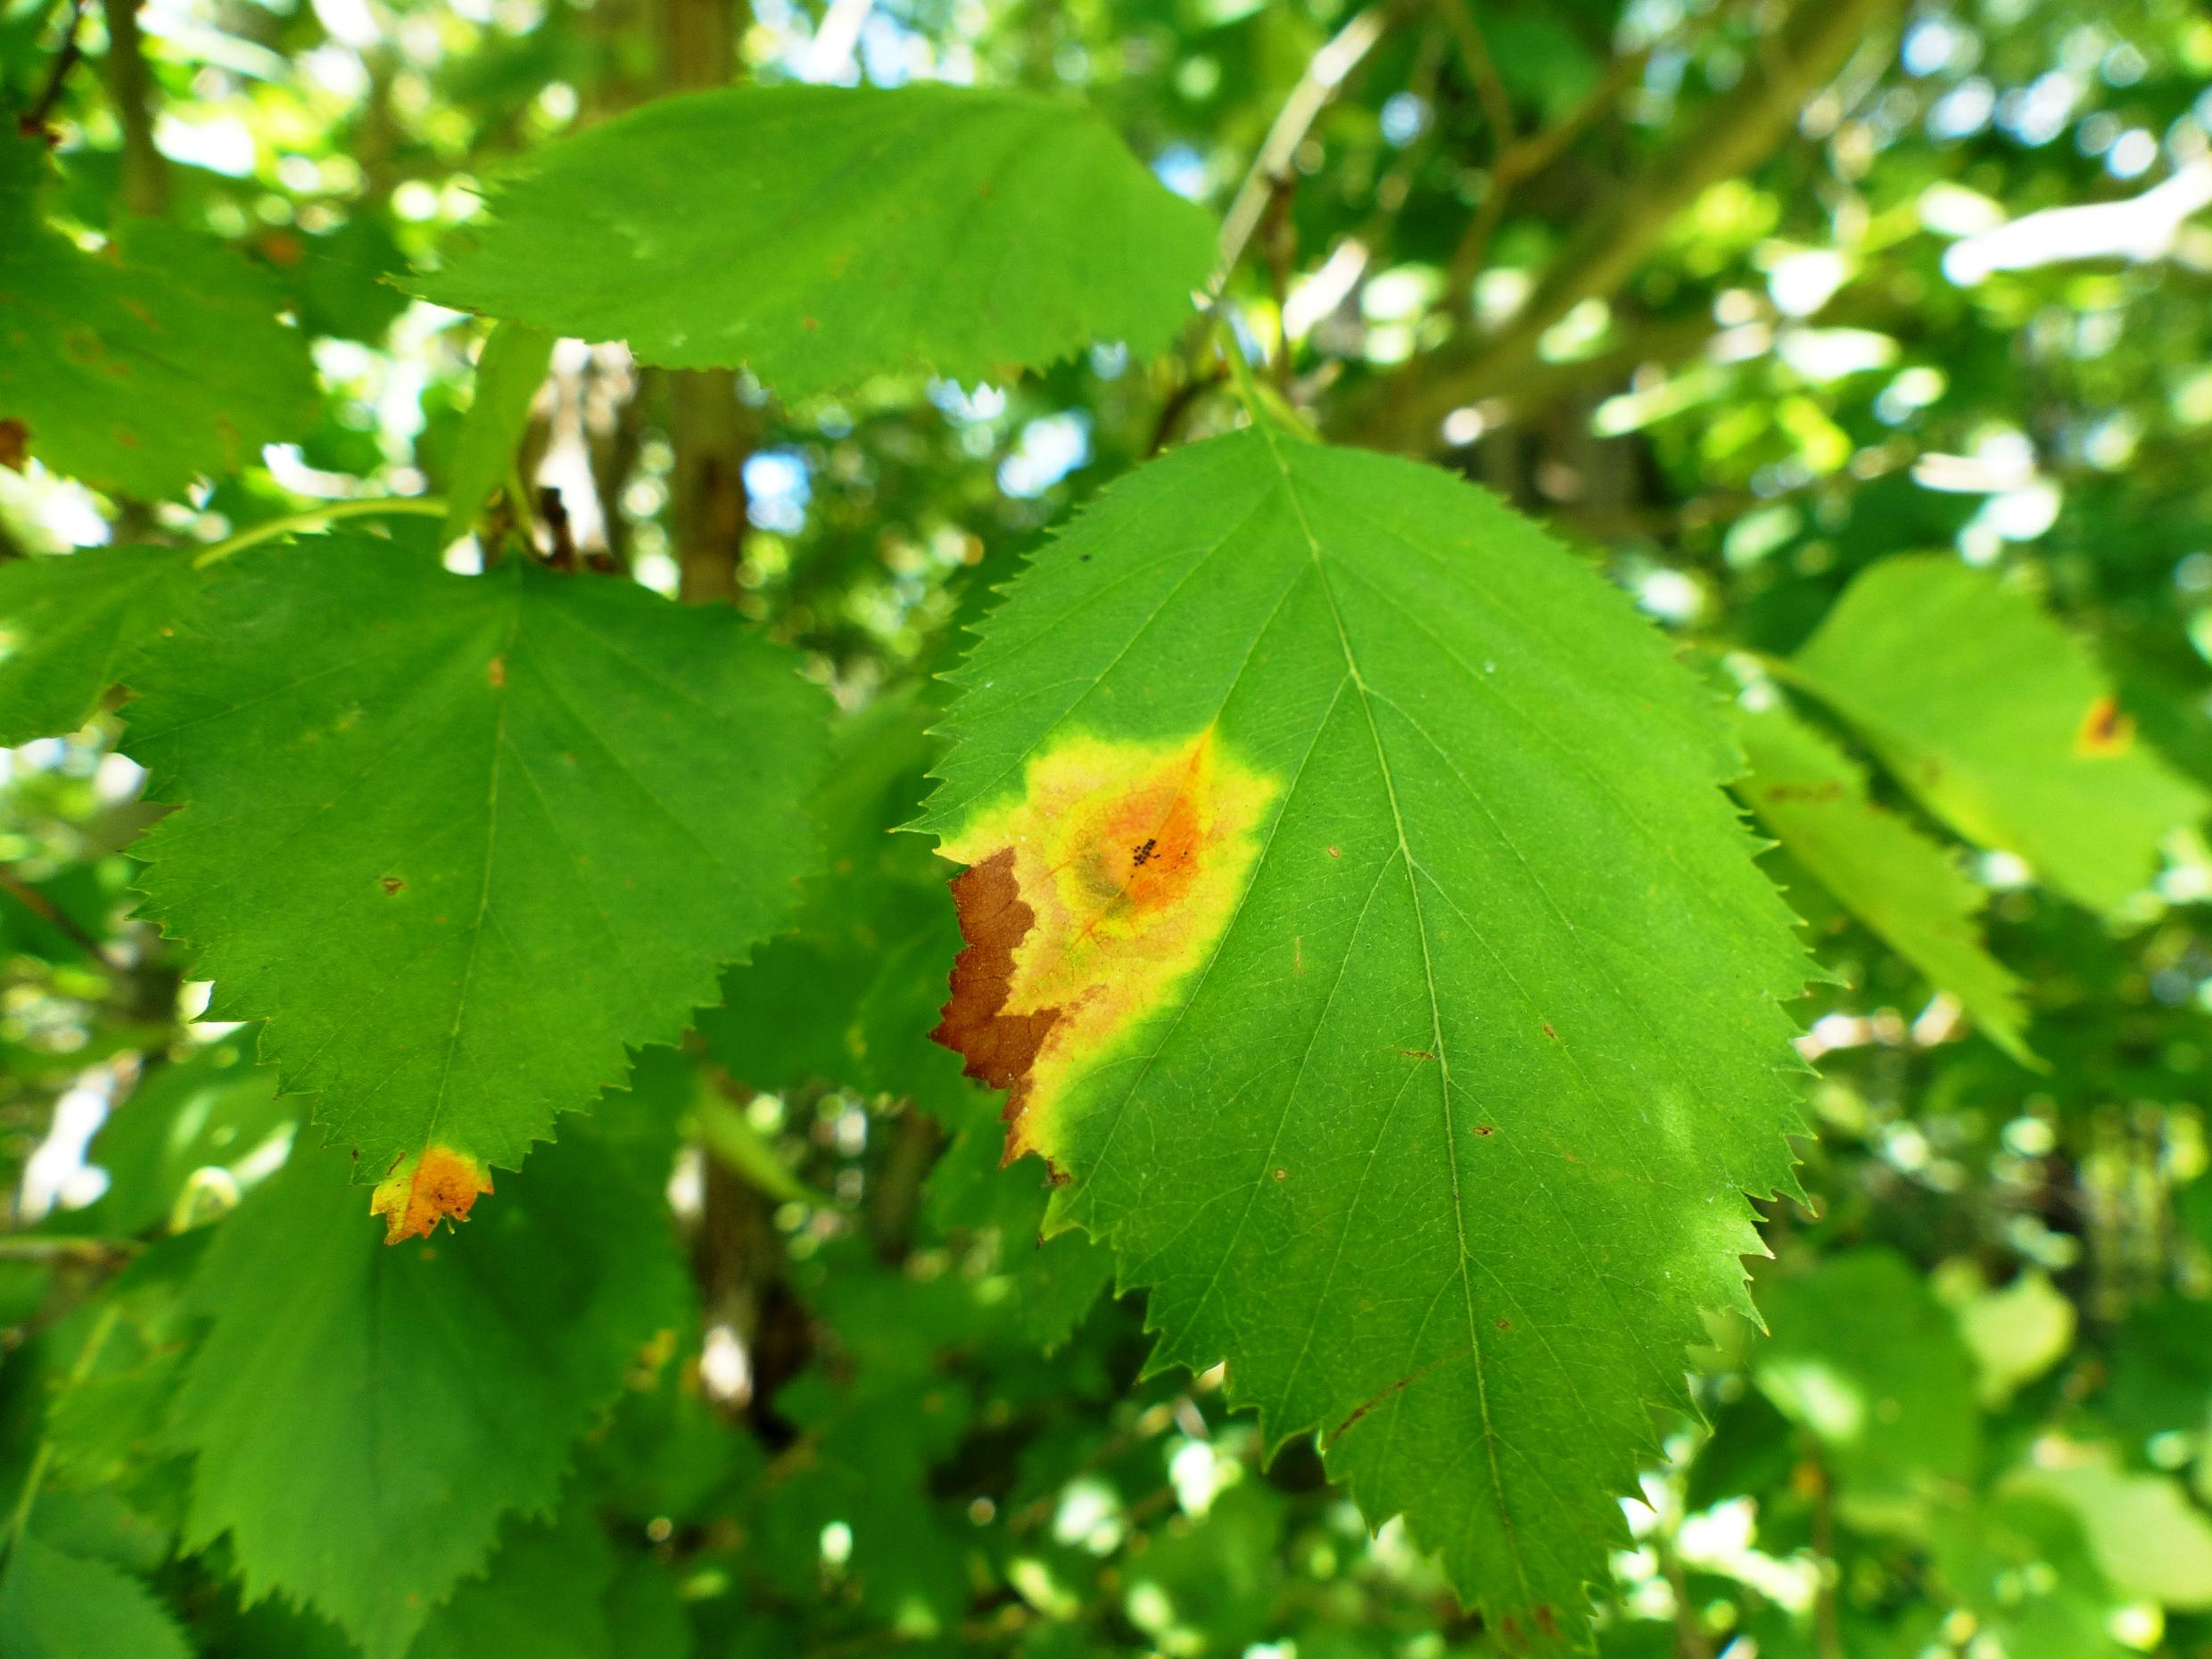Apple rust leaf: (883, 387, 1867, 1622), (131, 500, 869, 1305)
